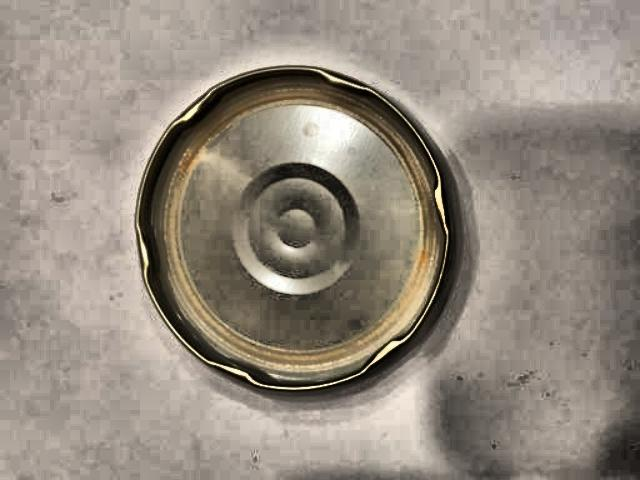Almennt: (123, 48, 469, 412)
